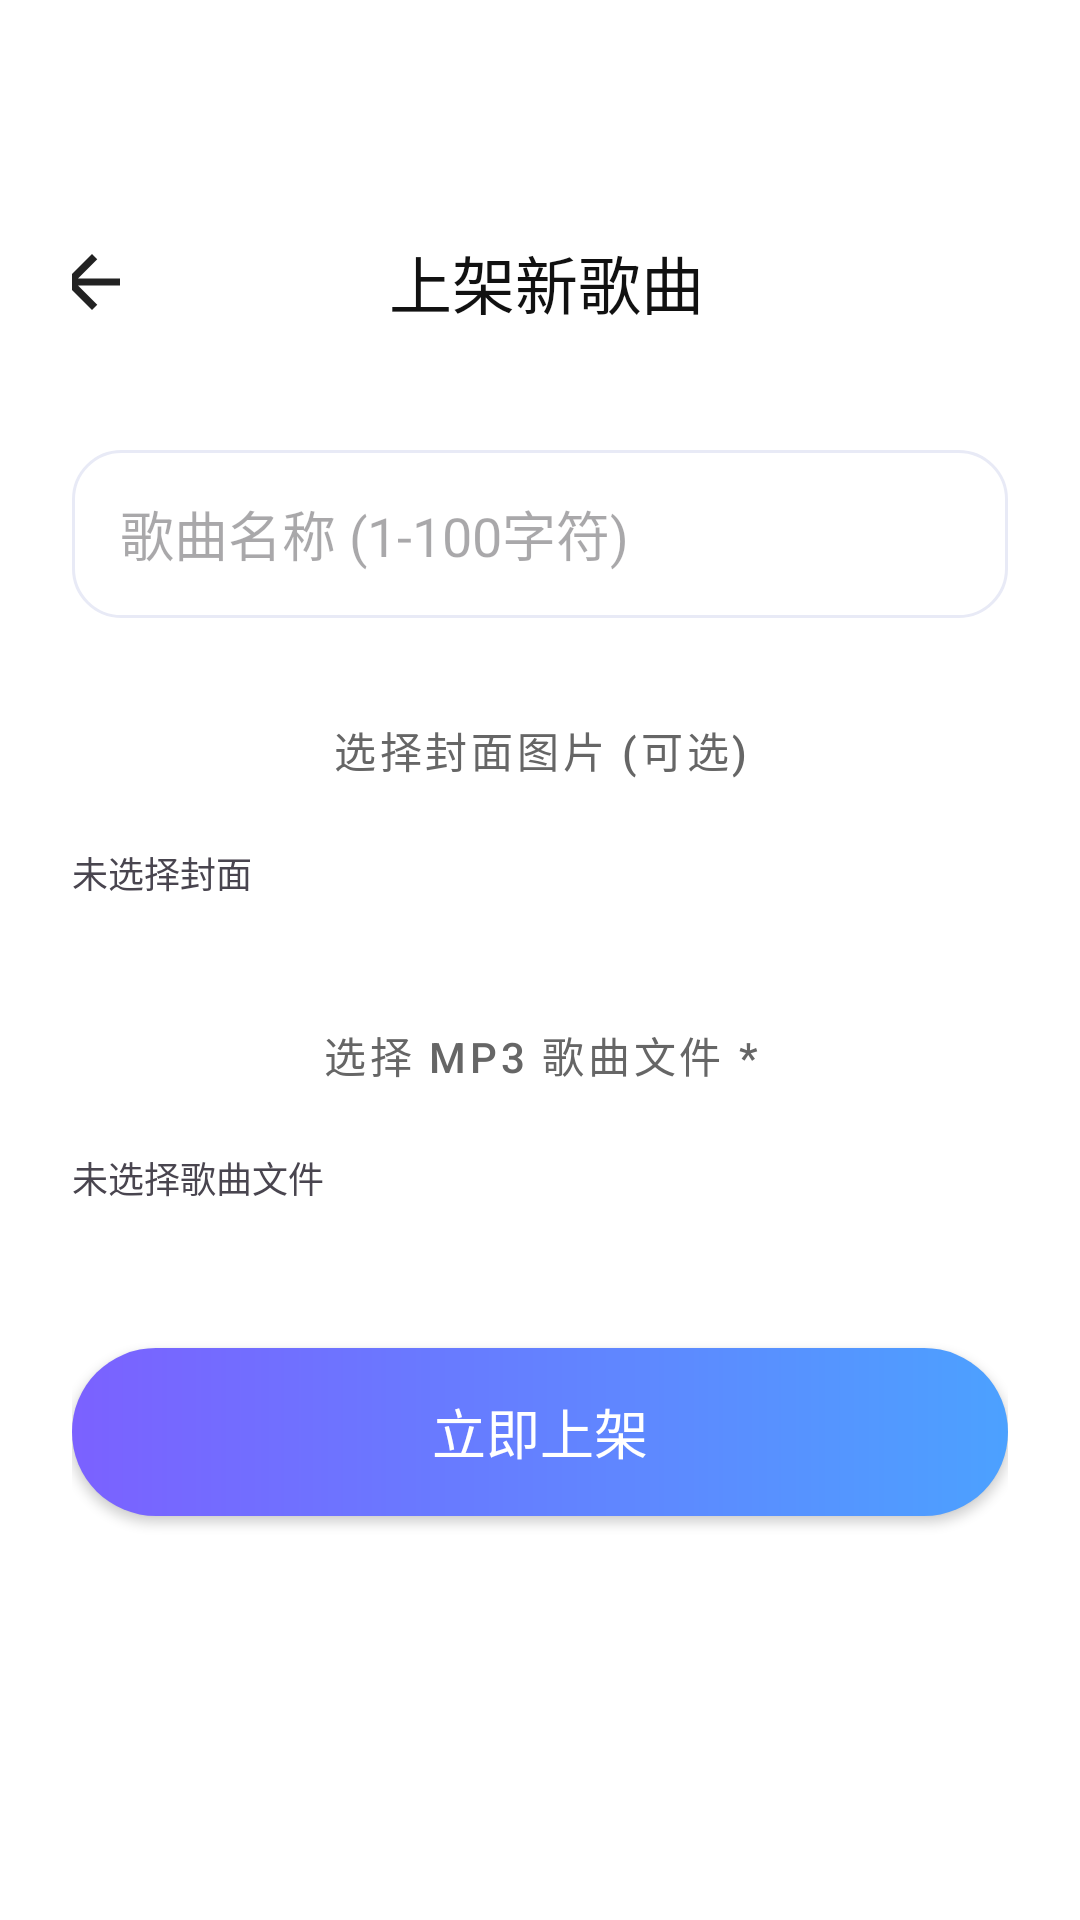

Icon click points for this 1080*1920 phone screenshot, format [x,y]:
返回上一页: [96,282]
